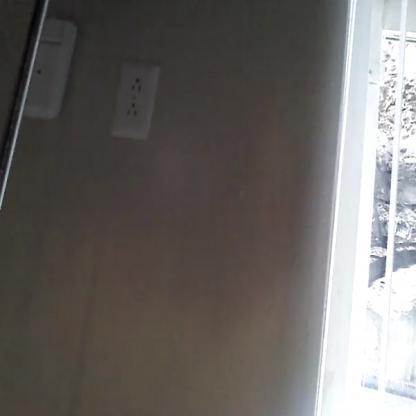OUTLET: (116, 64, 154, 130)
